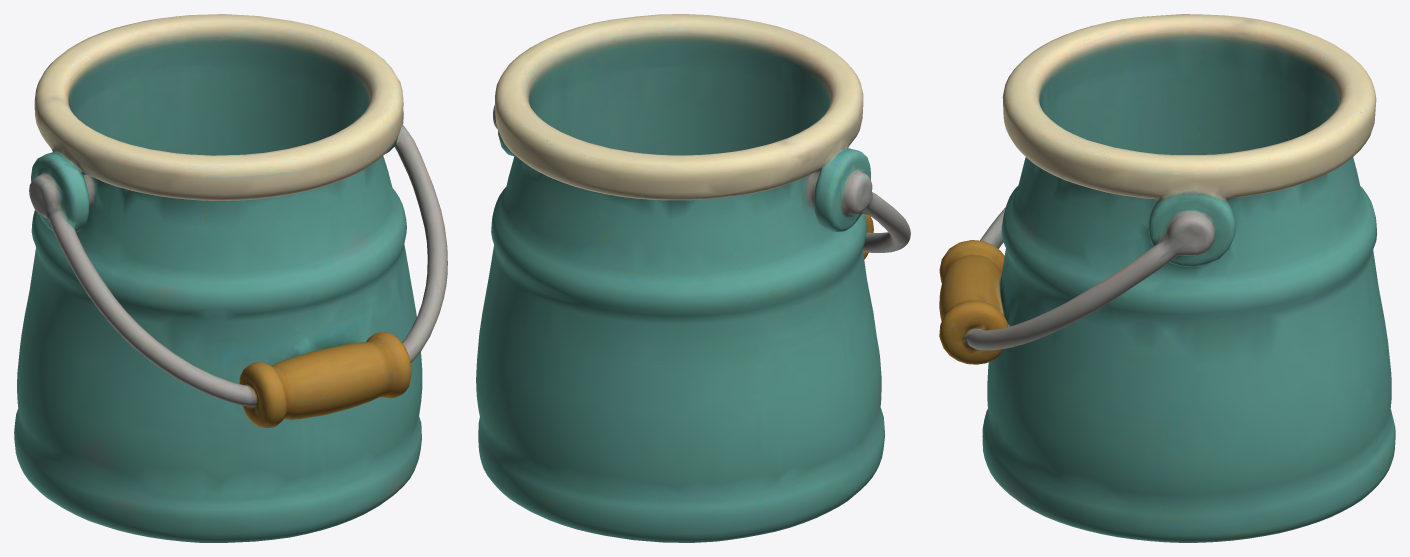
3 renders of one model, left to right at view 1: azimuth 30°, elevation 25°; view 2: azimuth 150°, elevation 25°; view 3: azimuth 270°, elevation 25°, orthographic.
Parts seen in each view (by area): view 1: bucket; view 2: bucket; view 3: bucket.
Part boxes in pixels (x1,y1,x2,y2): bucket: (14,14,447,542); bucket: (476,14,910,542); bucket: (939,14,1395,542).
Bounding box in the file's own units: 0.3533 × 0.3501 × 0.3837.
Materials: 1 (1 with a texture image).
